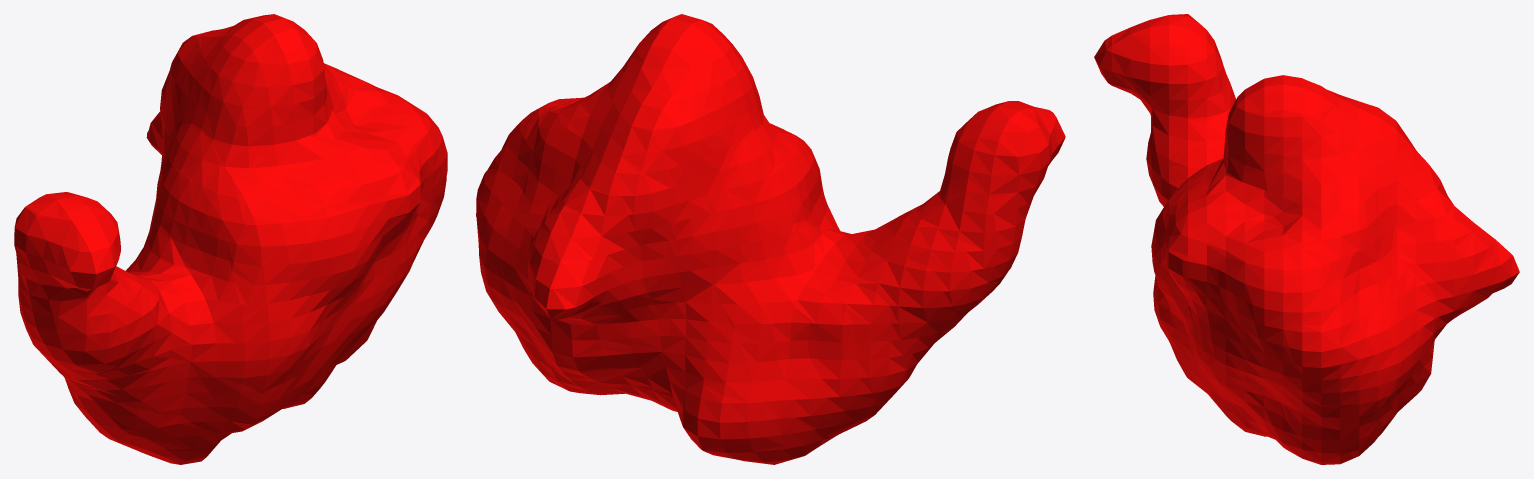
Rendered from purE_coarse.dae.
3 renders of one model, left to right at view 1: azimuth 30°, elevation 25°; view 2: azimuth 150°, elevation 25°; view 3: azimuth 270°, elevation 25°, orthographic. The views are drawn at different scales.
Parts seen in each view (by area): view 1: purE; view 2: purE; view 3: purE.
Boxes of the visible parts, <box> form: purE: <box>14,14,447,464</box>; purE: <box>476,14,1065,464</box>; purE: <box>1094,14,1519,464</box>.
Bounding box in the file's own units: 60.59 × 47.71 × 48.12.
